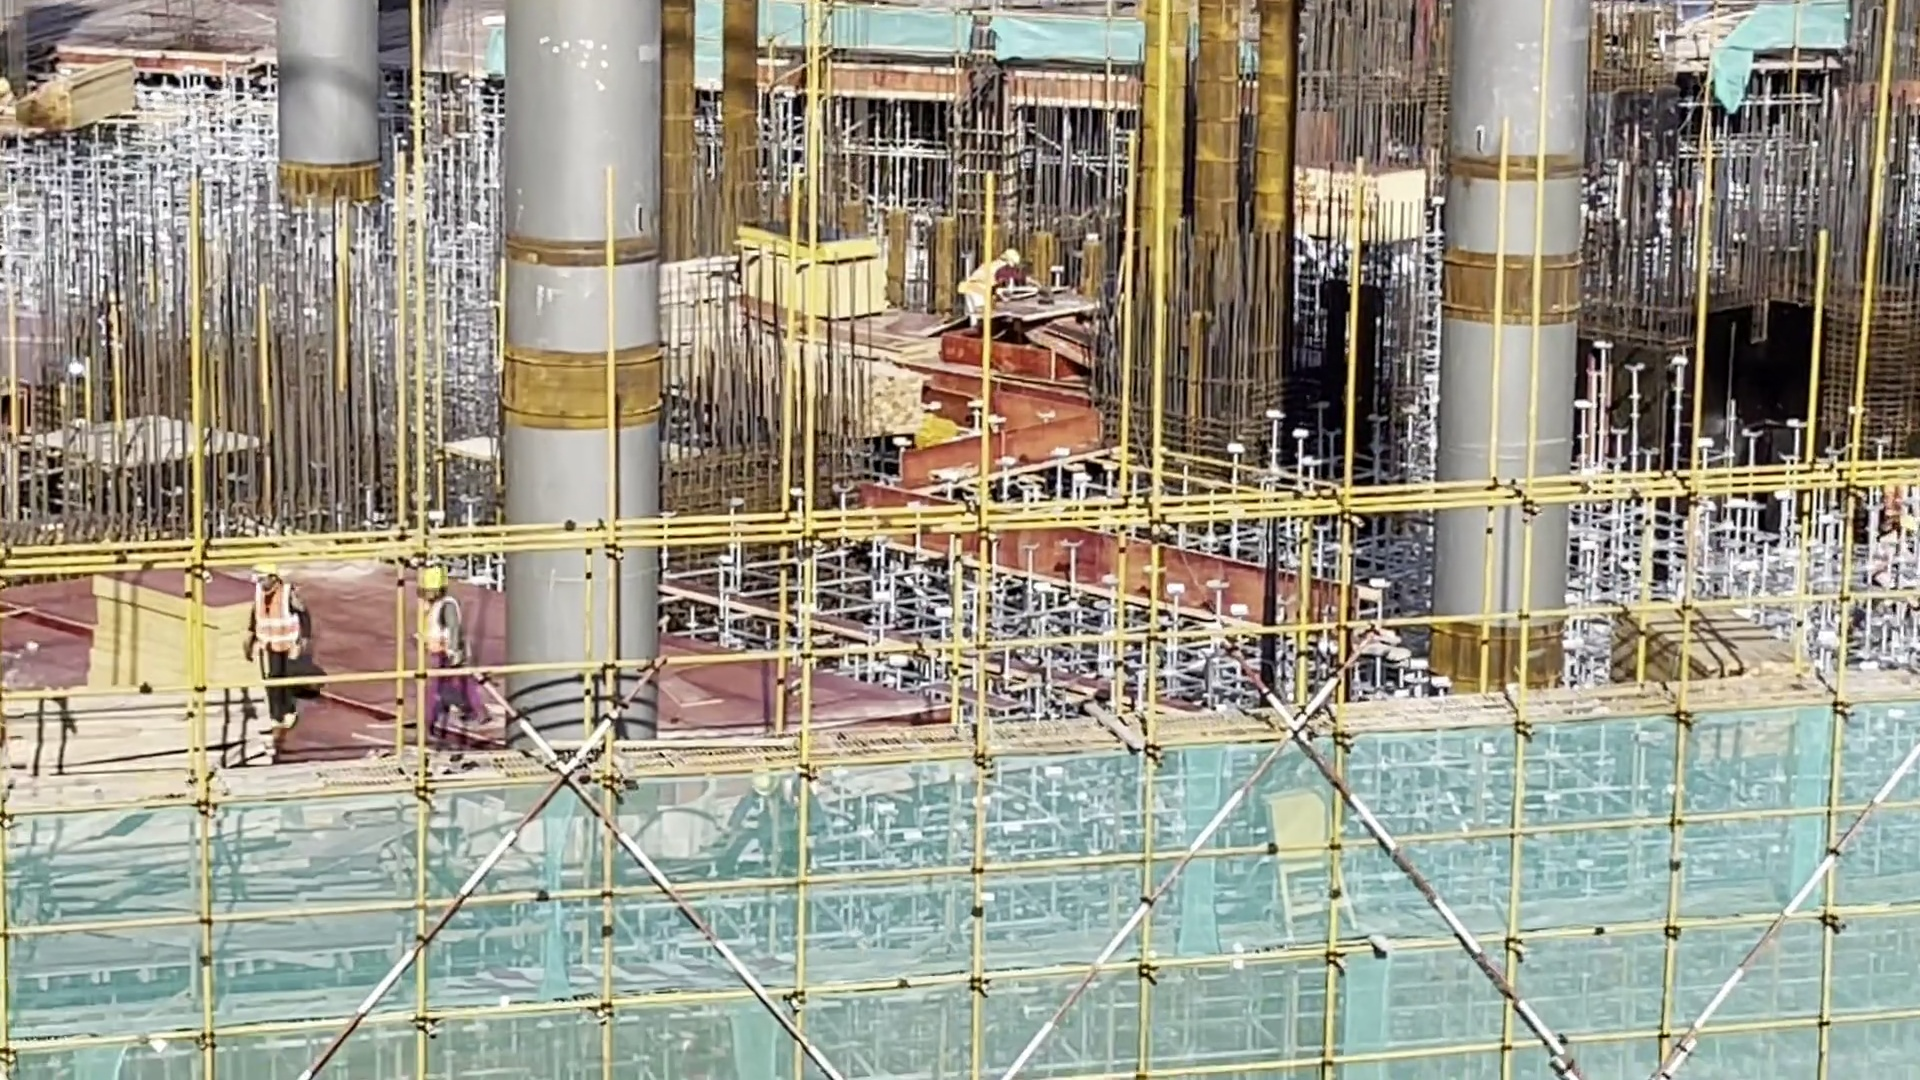helmet: (242, 549, 282, 588), (405, 554, 444, 594), (999, 239, 1027, 275)
person: (235, 562, 318, 752), (404, 557, 476, 725), (965, 235, 1009, 328)
vest: (249, 590, 303, 653), (411, 600, 469, 657), (966, 257, 999, 306)
